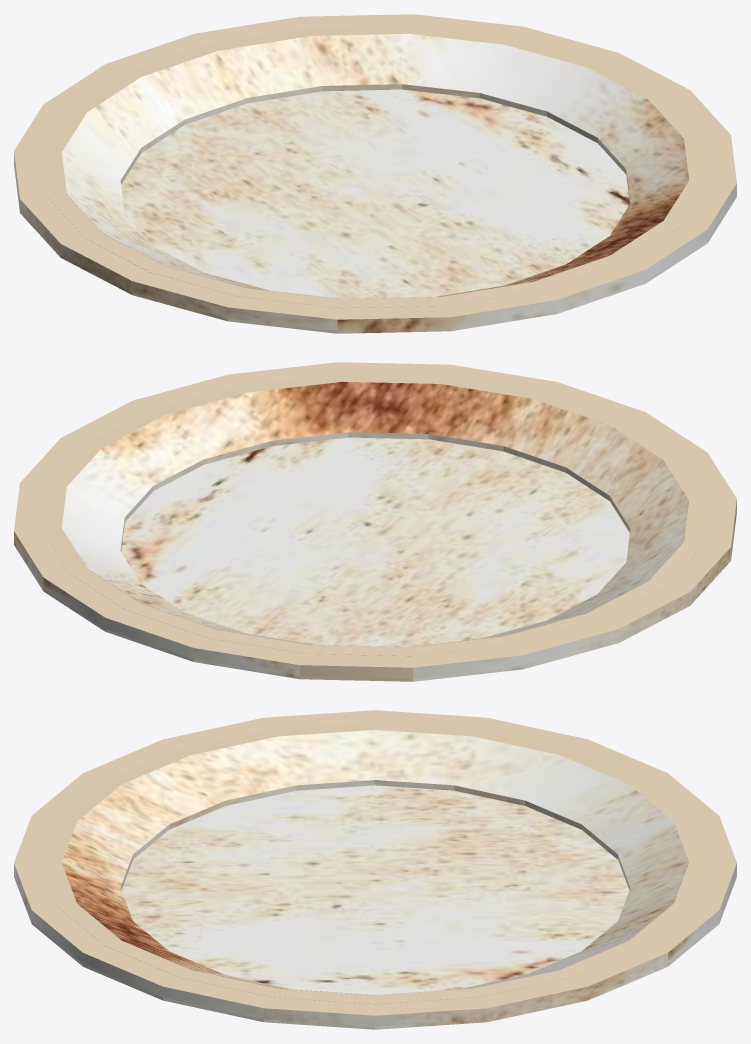
The model's file is dirty plate.fbx.
3 renders of one model, top to bottom at view 1: azimuth 30°, elevation 25°; view 2: azimuth 150°, elevation 25°; view 3: azimuth 270°, elevation 25°, orthographic.
Visible parts, largest first — view 1: pCylinder2; view 2: pCylinder2; view 3: pCylinder2.
Part boxes in pixels (<box>): pCylinder2: <box>14,14,736,333</box>; pCylinder2: <box>14,362,736,681</box>; pCylinder2: <box>14,710,736,1029</box>.
Size of the model in its own units: 2.84 by 0.1966 by 2.84.
1 material, 1 textured.
